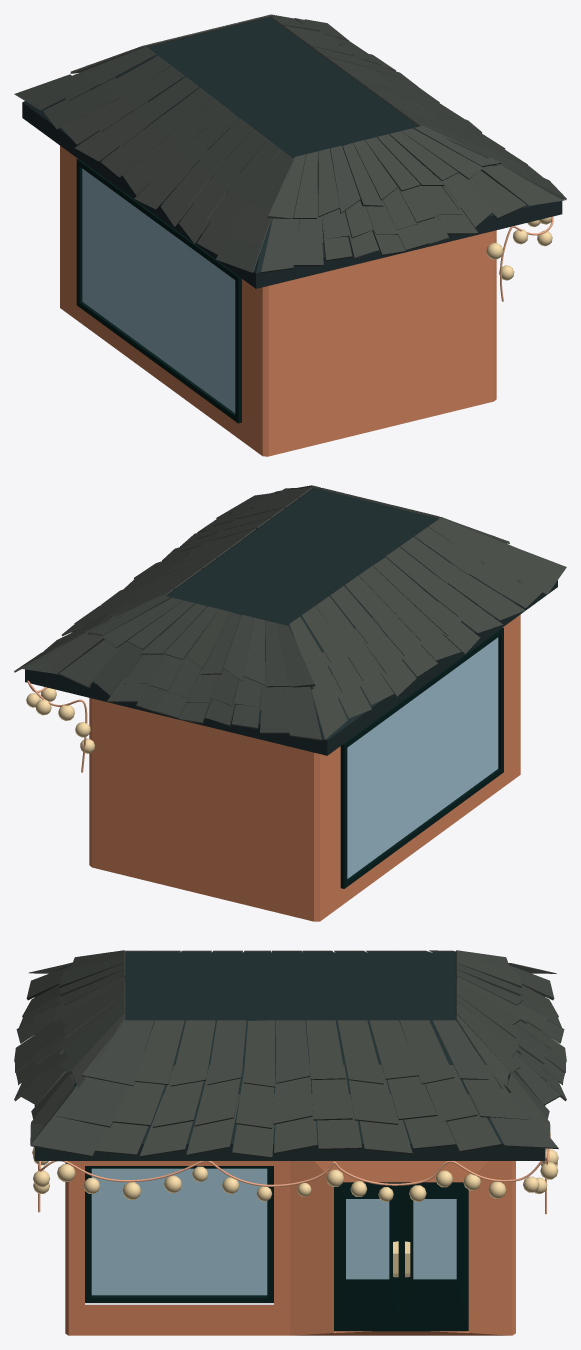
File: Ателье.fbx
3 views of the same model, one above another, from view 1: azimuth 30°, elevation 25°; view 2: azimuth 150°, elevation 25°; view 3: azimuth 270°, elevation 25° (orthographic). The views are drawn at different scales.
Parts seen in each view (by area): view 1: Cube, Plane; view 2: Cube, Plane; view 3: Cube, Plane, NurbsPath.
Boxes of the visible parts, bbox=[...] form: Cube: bbox=[22, 17, 562, 456]; Plane: bbox=[14, 14, 566, 273]; Cube: bbox=[25, 488, 557, 921]; Plane: bbox=[14, 485, 566, 740]; Cube: bbox=[34, 952, 545, 1335]; Plane: bbox=[14, 950, 566, 1158]; NurbsPath: bbox=[38, 1133, 550, 1214].
Bounding box in the file's own units: 1148 × 872 × 1499.
